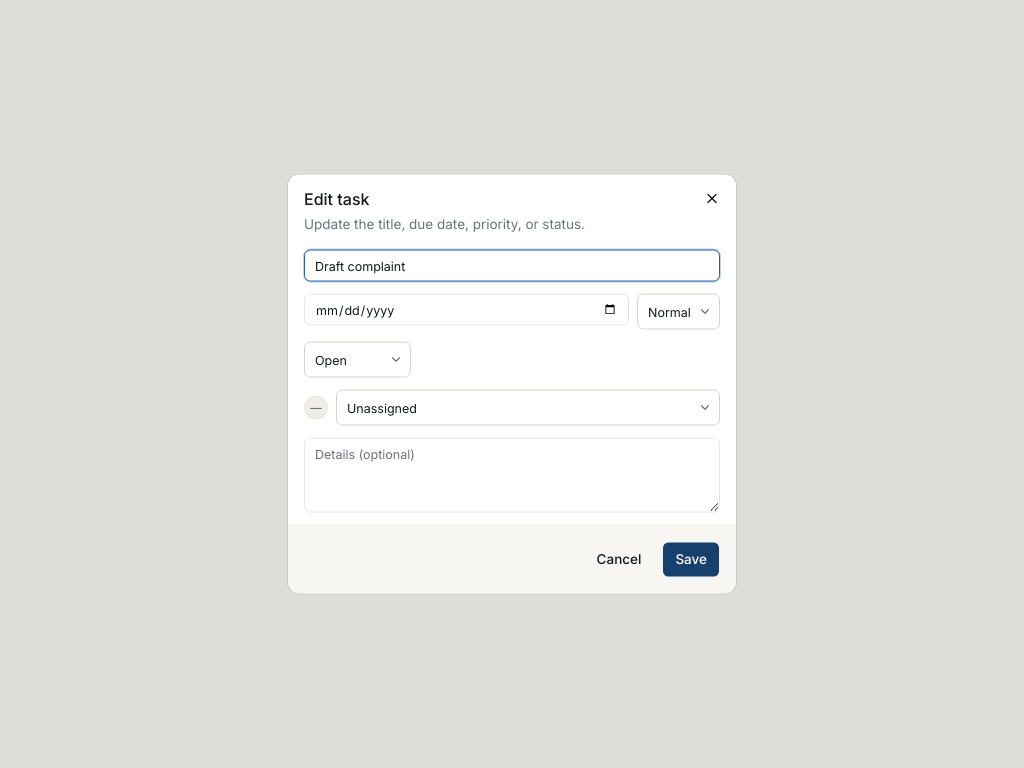
Scenario: EditTaskDialog - keeps what the user typed › a validation error does not wipe the fields
Replace the text in the field with placeholder "Task title" with "Edited title": {"x": 512, "y": 266} [304, 250, 720, 282]
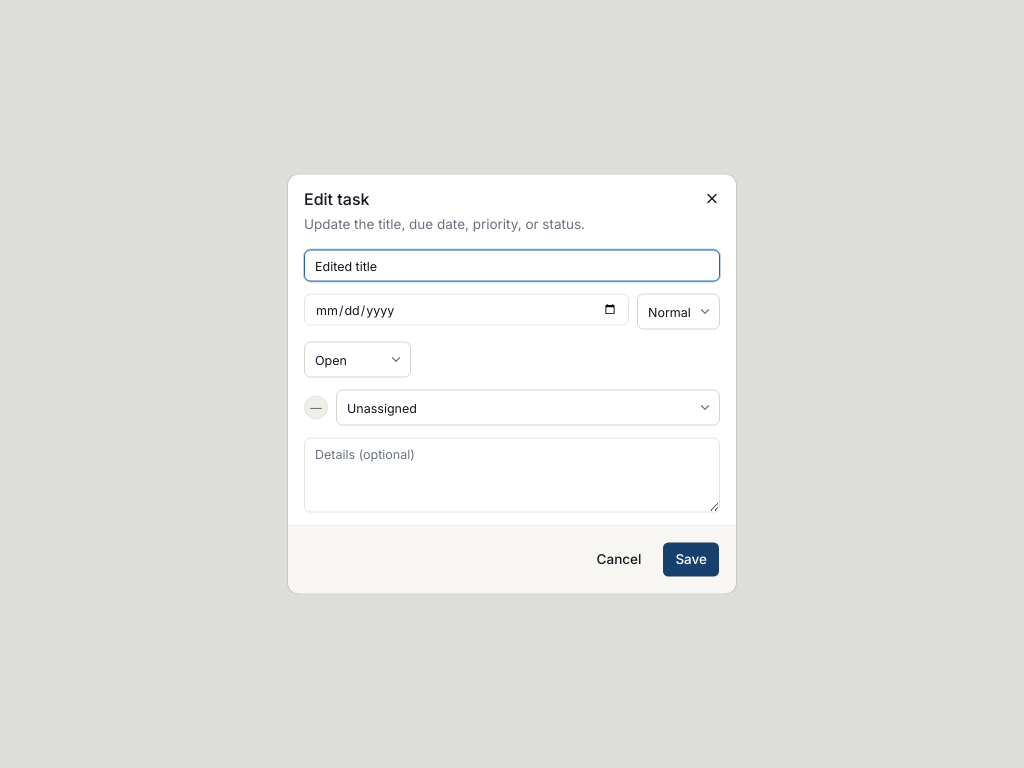
Click the button "Save": {"x": 691, "y": 560} [662, 542, 720, 578]
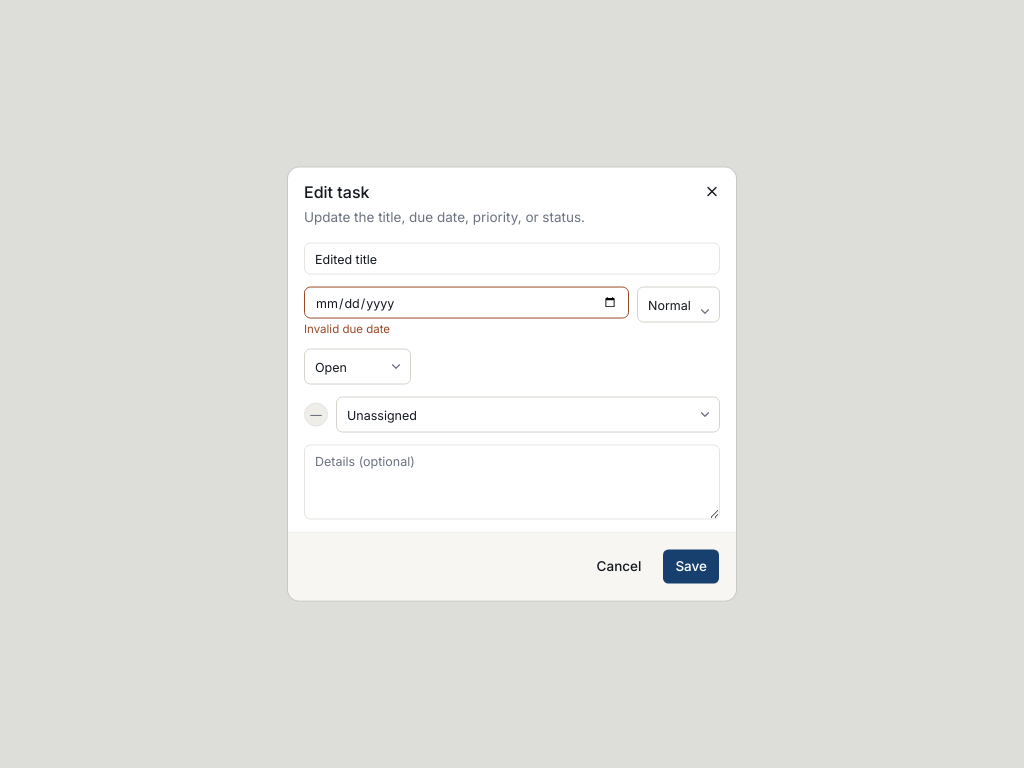
Result: the text "Invalid due date" is shown at [304, 322, 390, 336]
